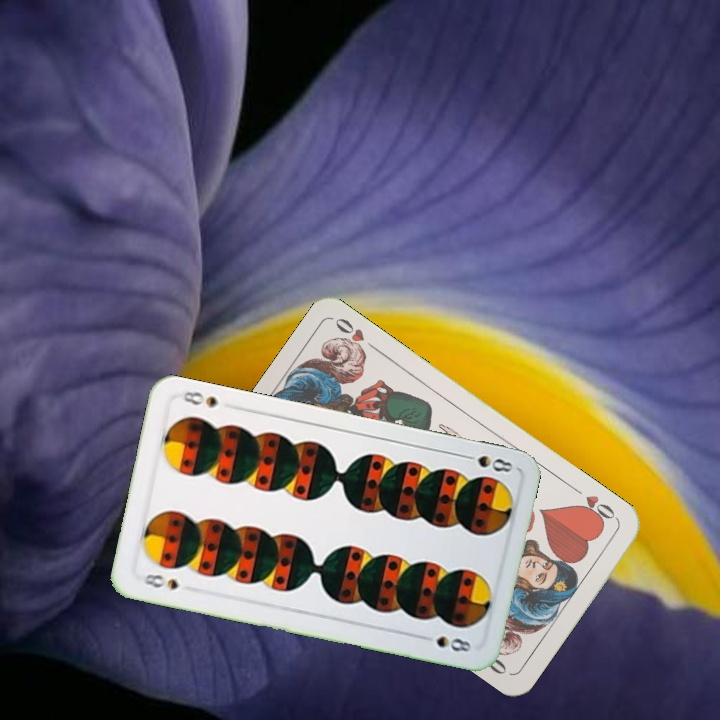HO: (568, 482, 620, 527)
S8: (457, 450, 516, 475), (134, 569, 181, 593)
